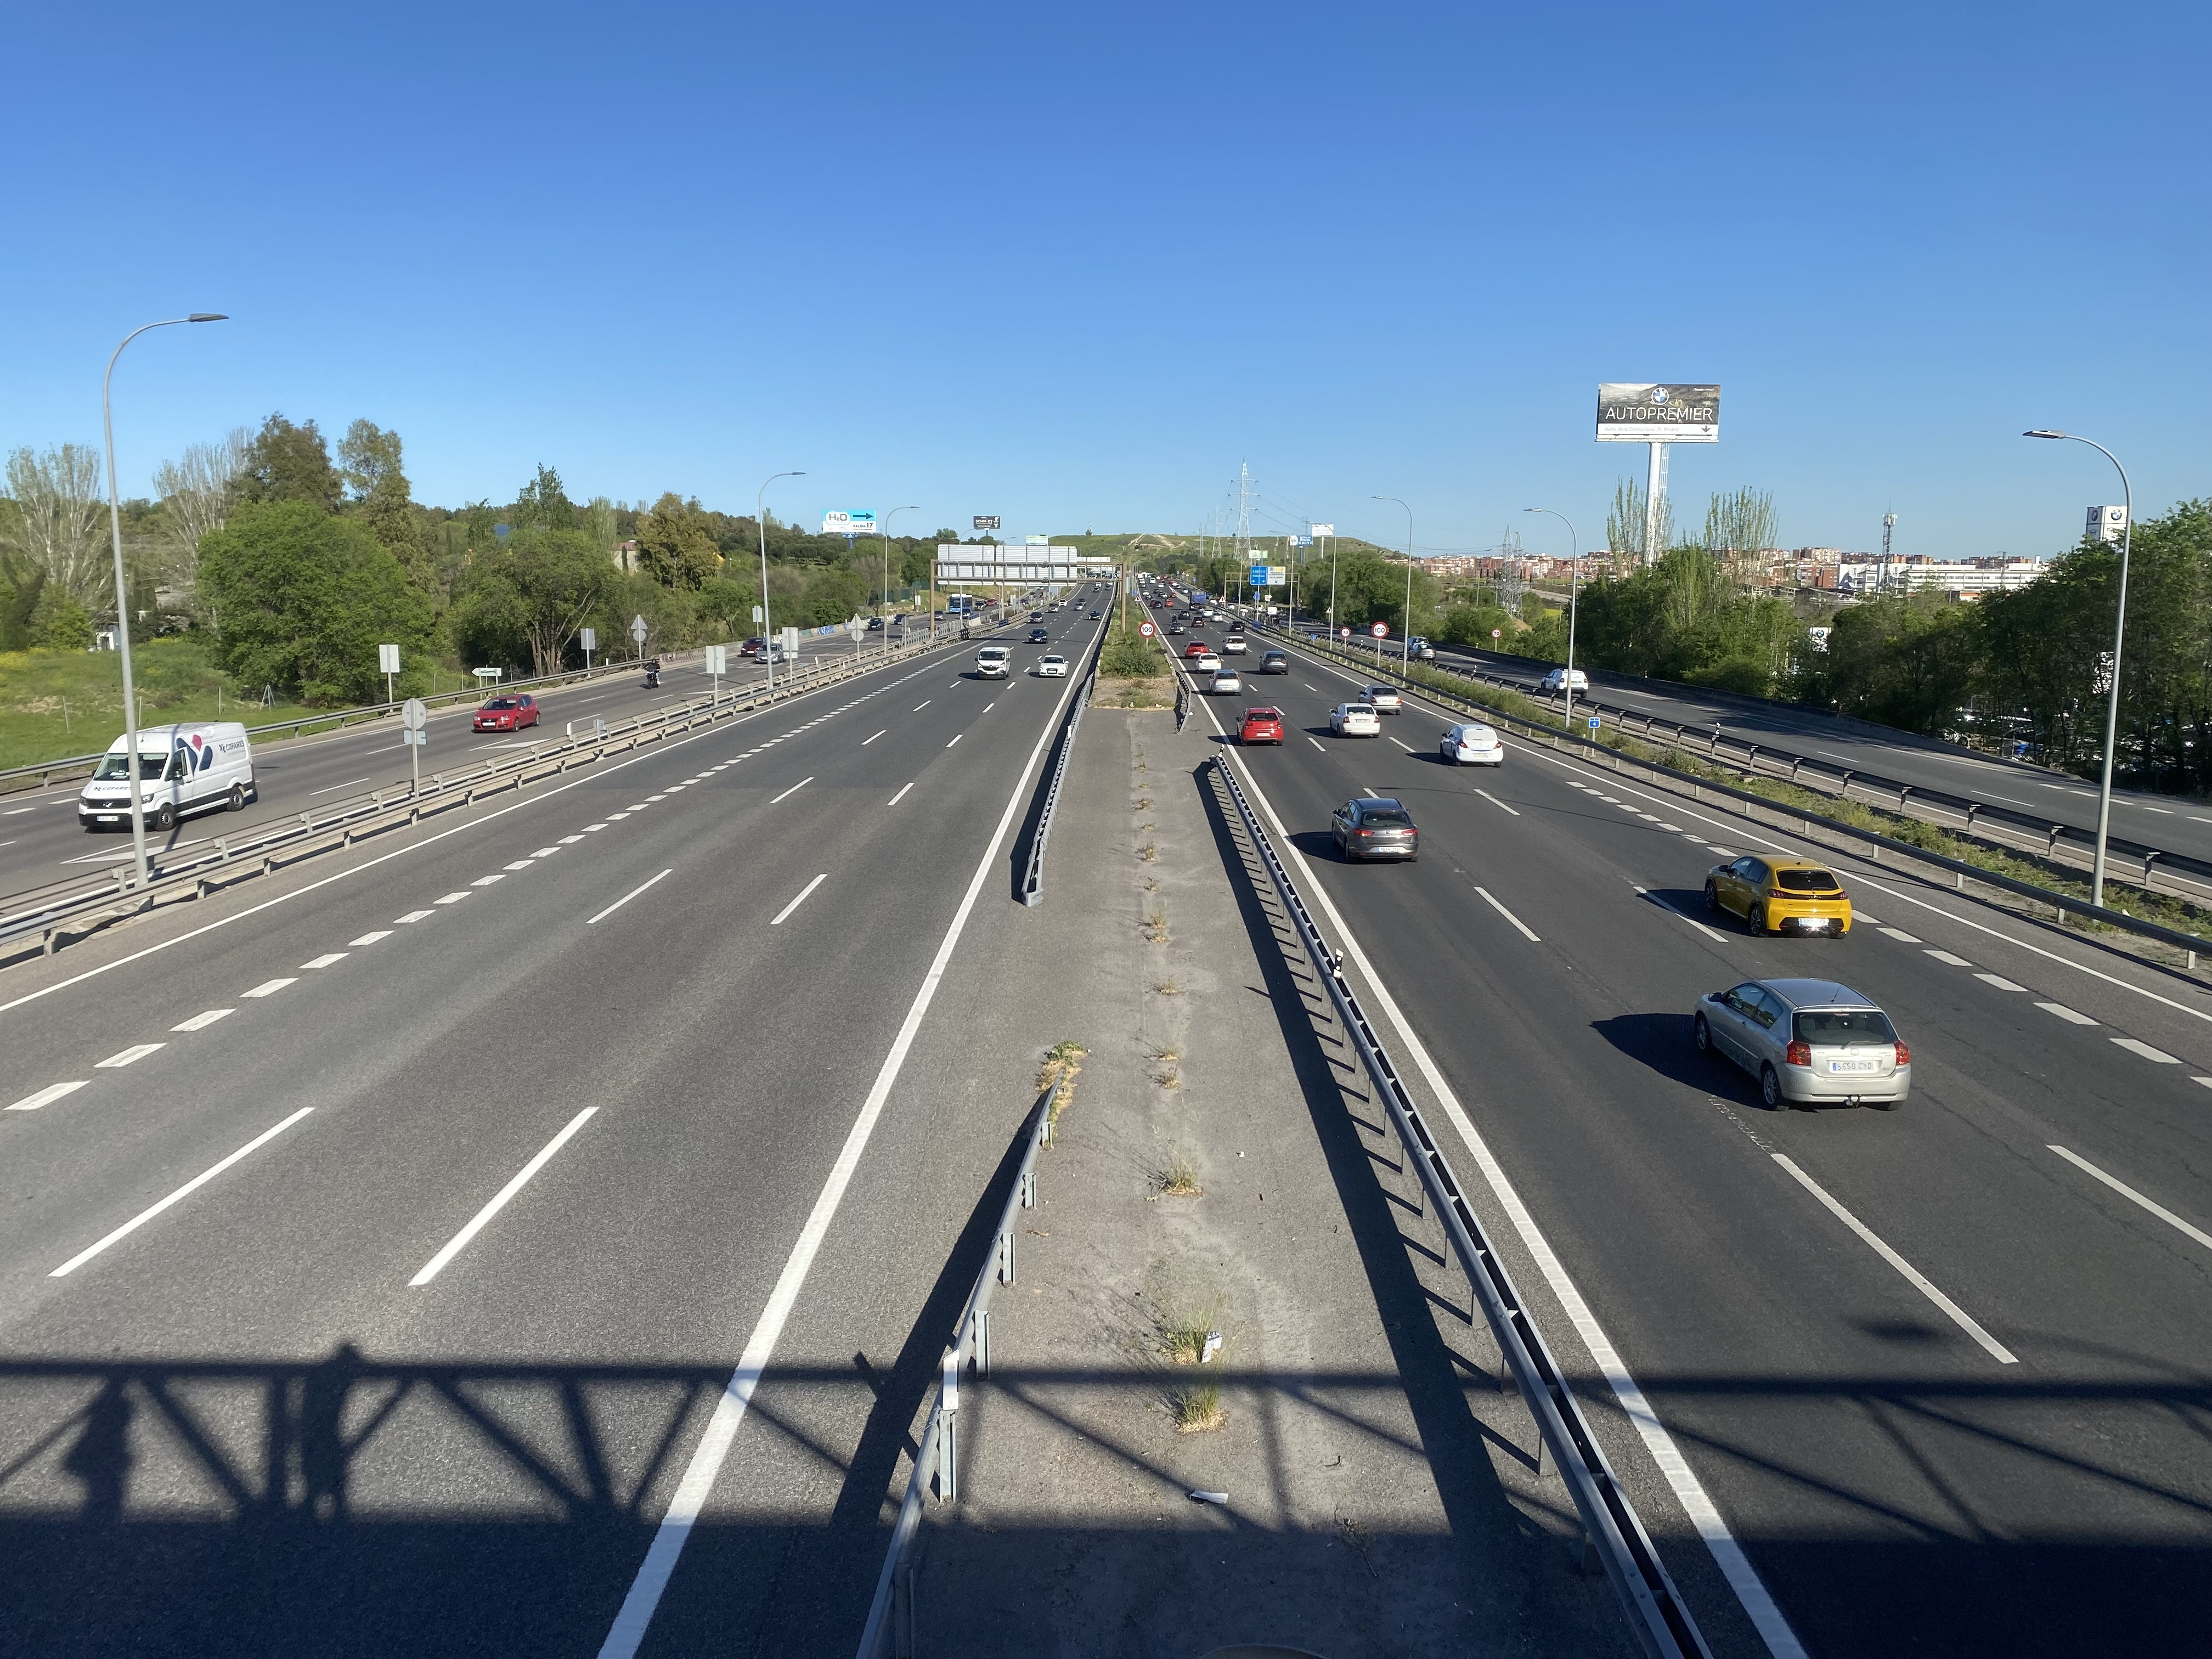cars: (1693, 978, 1911, 1108), (1703, 856, 1851, 938), (1331, 796, 1418, 861), (1440, 723, 1503, 765), (474, 694, 538, 732), (1329, 701, 1379, 737), (1240, 706, 1284, 744), (1536, 667, 1588, 699), (1360, 683, 1400, 713), (975, 647, 1010, 678), (1183, 641, 1219, 669), (1209, 667, 1242, 695), (1036, 653, 1069, 678), (1258, 648, 1287, 674), (1183, 641, 1214, 660), (1191, 653, 1221, 673), (1221, 634, 1247, 655), (1139, 620, 1157, 638), (1029, 627, 1049, 643)
